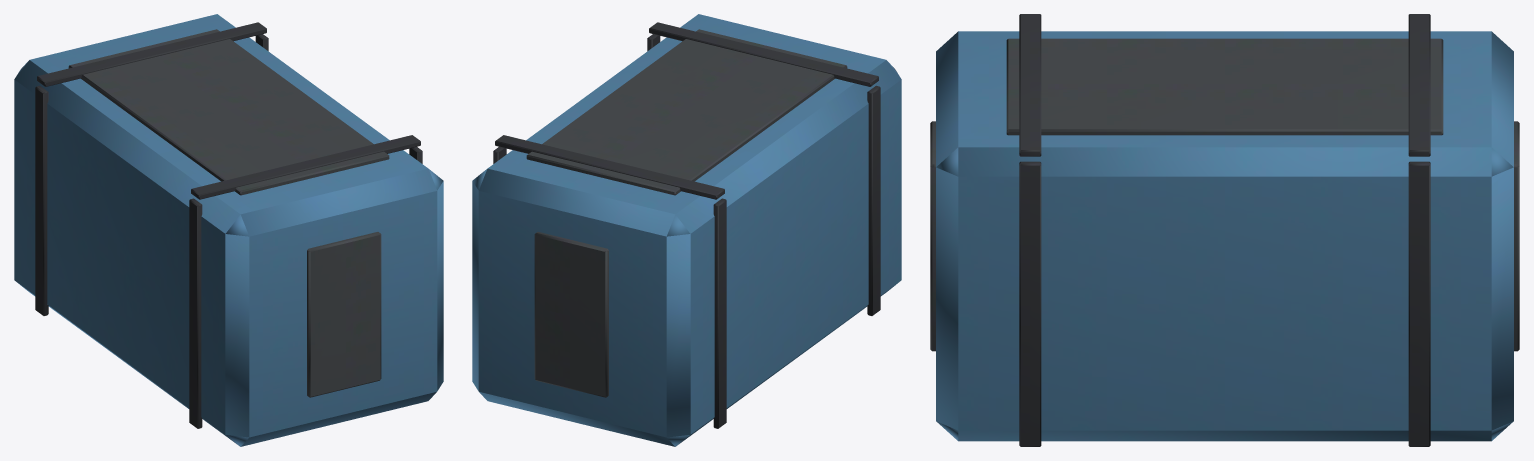
The model's file is absorber-block_high.glb.
3 views of the same model, side by side, from view 1: azimuth 30°, elevation 25°; view 2: azimuth 150°, elevation 25°; view 3: azimuth 270°, elevation 25° (orthographic). The views are drawn at different scales.
Parts seen in each view (by area): view 1: paint-band, dark-steel, rubber; view 2: paint-band, dark-steel, rubber; view 3: paint-band, dark-steel, rubber.
Part boxes in pixels (x1,y1,x2,y2): paint-band: (14,14,443,446); dark-steel: (68,29,389,397); rubber: (35,22,422,428); paint-band: (472,14,901,446); dark-steel: (526,29,847,397); rubber: (493,22,880,428); paint-band: (936,31,1513,441); dark-steel: (930,38,1519,351); rubber: (1019,14,1430,446).
Size of the model in its own units: 1.12 by 1.13 by 2.
3 materials, 3 textured.
